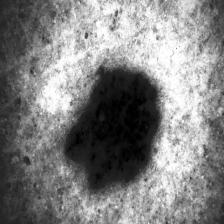Benign Marking or Mole: (64, 61, 162, 186)
